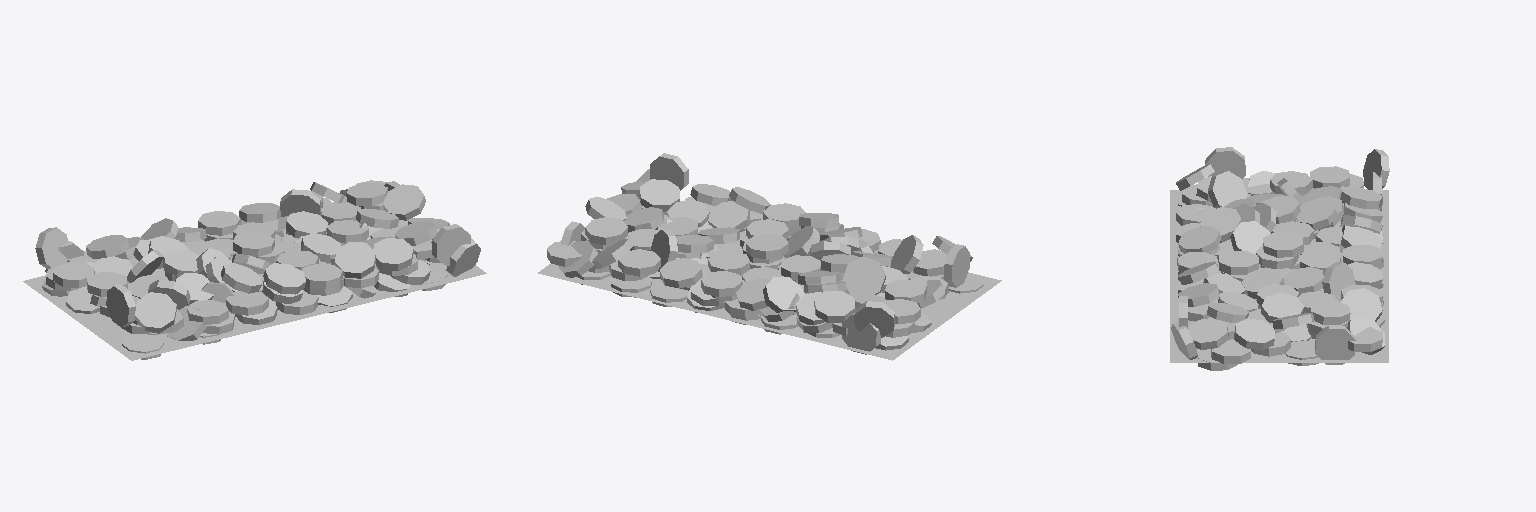
Rendered from PixelChest_Gold.obj.
3 views of the same model, side by side, from view 1: azimuth 30°, elevation 25°; view 2: azimuth 150°, elevation 25°; view 3: azimuth 270°, elevation 25° (orthographic).
Visible parts, largest first — view 1: Gold_Cube; view 2: Gold_Cube; view 3: Gold_Cube.
Part boxes in pixels (left/top/right/bottom): Gold_Cube: left=23, top=180, right=486, bottom=360; Gold_Cube: left=538, top=153, right=1001, bottom=360; Gold_Cube: left=1170, top=147, right=1389, bottom=370.
Bounding box in the file's own units: 1.16 × 0.1767 × 0.6167.